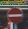No entry: (5, 6, 23, 24)
